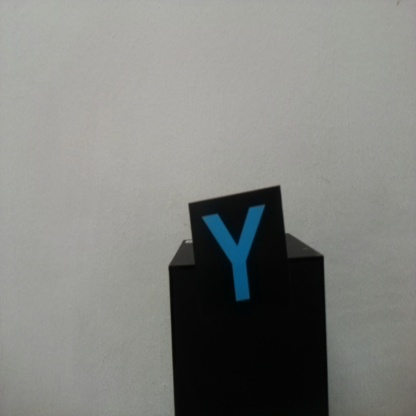id_14: (189, 203, 287, 320)
